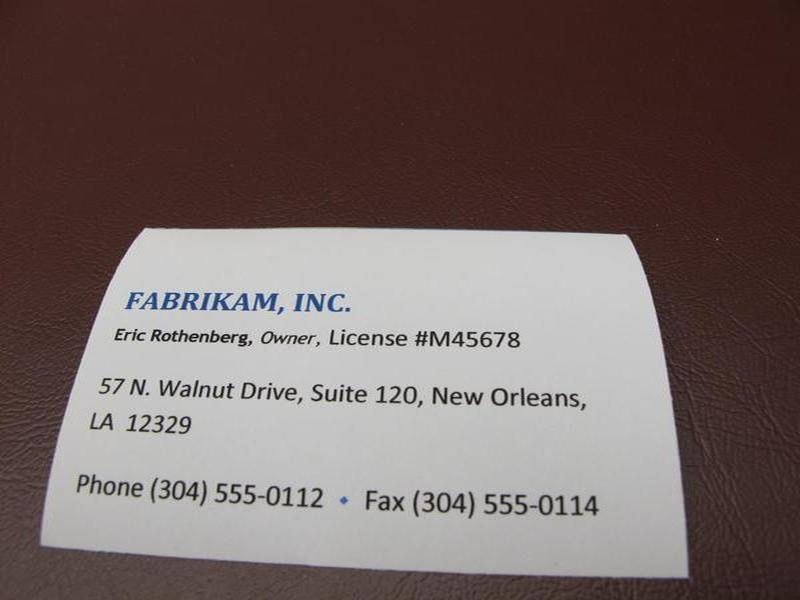card: (40, 216, 695, 584)
